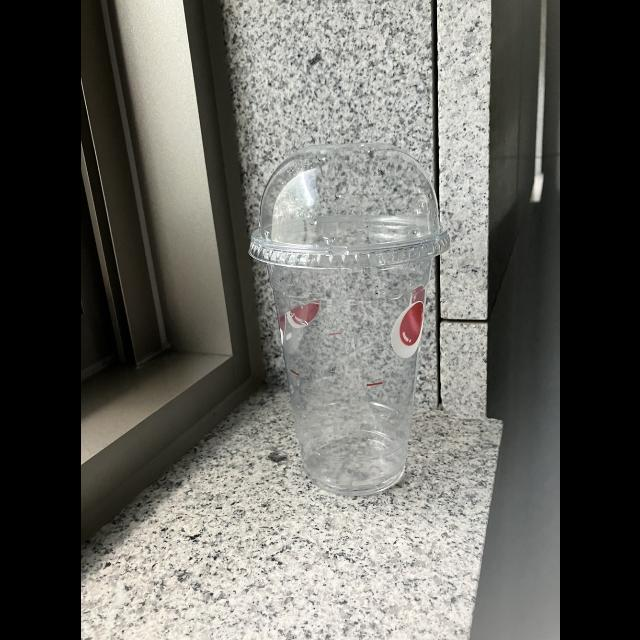plastic_cup: (250, 142, 454, 498)
plastic_cup_lid: (244, 143, 453, 269)
